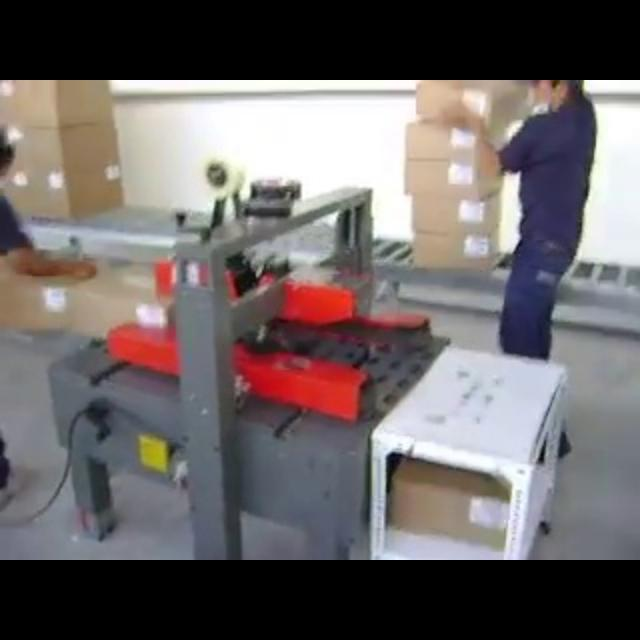Box: (402, 80, 506, 274), (0, 80, 126, 224), (387, 456, 518, 554), (70, 256, 180, 346), (0, 244, 88, 336)
